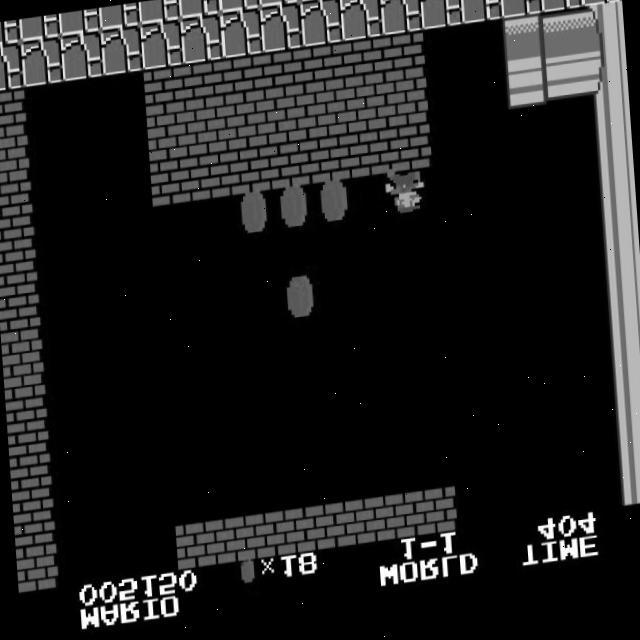1- brick_block: (413, 490, 458, 541), (174, 520, 218, 572), (146, 111, 190, 163), (214, 515, 258, 567), (182, 61, 226, 113), (254, 510, 298, 562), (226, 101, 270, 153), (222, 56, 266, 108), (294, 505, 338, 557), (266, 96, 310, 148), (262, 51, 306, 103), (334, 500, 378, 552), (305, 91, 349, 143), (374, 495, 418, 547), (345, 86, 389, 138), (342, 41, 386, 93), (385, 81, 429, 133), (2, 360, 46, 411), (142, 67, 186, 118), (188, 153, 232, 204), (186, 107, 230, 158), (268, 142, 312, 193), (308, 137, 352, 188), (302, 46, 346, 97), (348, 132, 392, 183), (388, 127, 432, 178), (382, 36, 426, 87), (149, 158, 193, 208), (228, 148, 272, 198), (15, 542, 58, 593), (6, 405, 48, 457), (12, 497, 55, 547), (9, 451, 52, 501), (0, 315, 42, 365), (0, 269, 39, 320), (0, 223, 36, 274), (0, 179, 32, 229), (0, 133, 29, 183), (0, 87, 26, 138)
11- little_mario: (382, 171, 428, 224)
14- pipe: (542, 15, 586, 67), (594, 192, 638, 244), (590, 147, 634, 199), (544, 61, 588, 112), (587, 102, 631, 153), (584, 56, 628, 107), (581, 11, 625, 62), (597, 238, 640, 288), (600, 283, 640, 334), (603, 329, 640, 380), (606, 375, 640, 425), (609, 421, 640, 471), (612, 466, 640, 516)
15- pipe_head: (502, 20, 546, 72), (504, 66, 548, 117)
17- undestructible_block: (20, 36, 64, 88), (60, 31, 104, 83), (259, 5, 303, 57), (100, 26, 144, 77), (139, 21, 183, 72), (179, 16, 223, 67), (219, 11, 263, 62), (299, 1, 343, 52), (338, 0, 382, 47), (378, 0, 422, 41), (418, 0, 462, 37), (458, 0, 502, 31), (18, 14, 60, 42), (58, 9, 100, 37), (98, 4, 140, 32), (0, 42, 23, 92), (498, 0, 542, 26), (138, 0, 180, 27), (177, 0, 220, 22), (538, 0, 582, 21), (578, 0, 622, 17), (217, 0, 260, 17), (257, 0, 300, 12), (0, 20, 19, 46), (297, 0, 340, 7), (337, 0, 380, 1)
2- coin: (232, 192, 276, 244), (278, 278, 322, 330), (272, 187, 316, 239), (312, 182, 356, 234)
